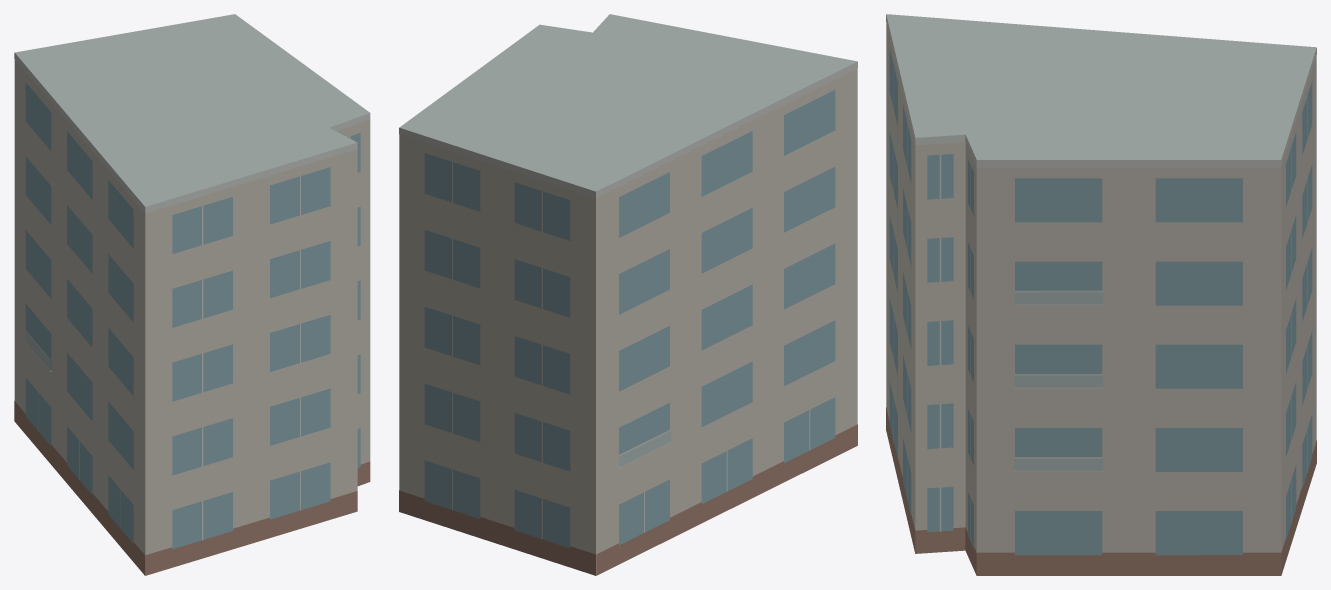
Rendered from survey-upis-32916417.glb.
3 views of the same model, side by side, from view 1: azimuth 30°, elevation 25°; view 2: azimuth 150°, elevation 25°; view 3: azimuth 270°, elevation 25° (orthographic). The views are drawn at different scales.
Parts seen in each view (by area): view 1: survey-upis-32916417.tmp; view 2: survey-upis-32916417.tmp; view 3: survey-upis-32916417.tmp.
Part boxes in pixels (x1,y1,x2,y2): survey-upis-32916417.tmp: (14, 14, 370, 575); survey-upis-32916417.tmp: (399, 14, 857, 575); survey-upis-32916417.tmp: (886, 14, 1316, 575).
Bounding box in the file's own units: 10.43 × 13.8 × 12.96.
